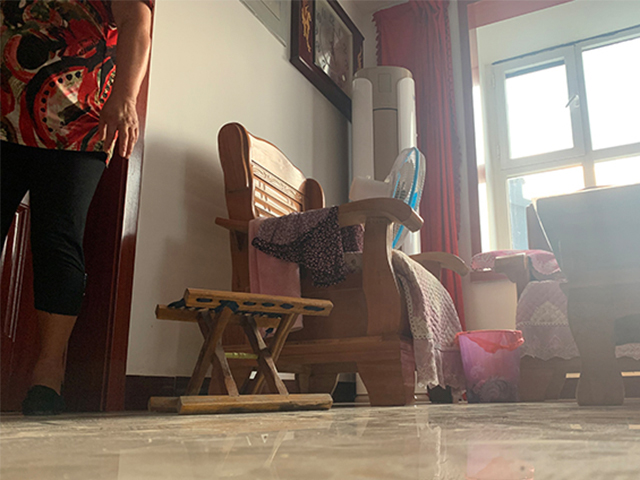sofa: (214, 120, 469, 409)
stool: (147, 287, 334, 414)
table: (535, 183, 640, 407)
trashcan: (455, 328, 524, 404)
